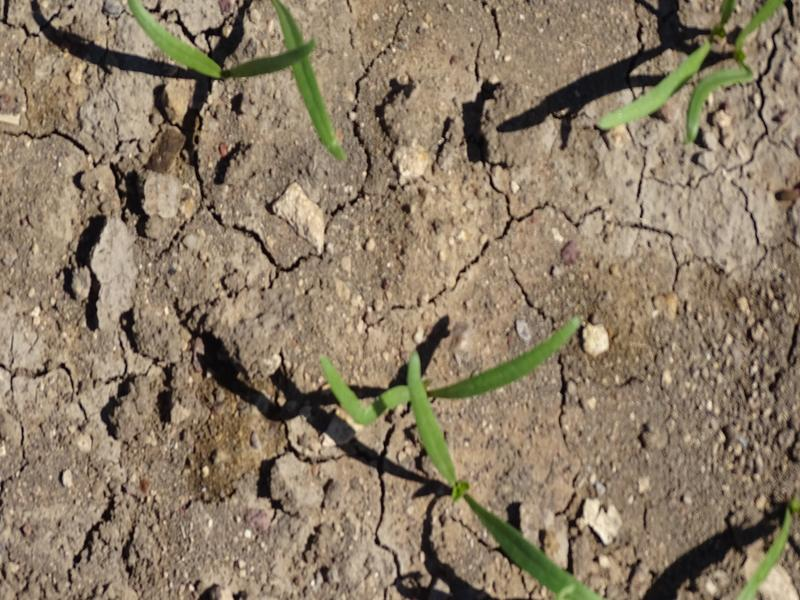Espinaca: (128, 5, 359, 163), (426, 432, 604, 599), (324, 320, 579, 427), (589, 39, 752, 135)
